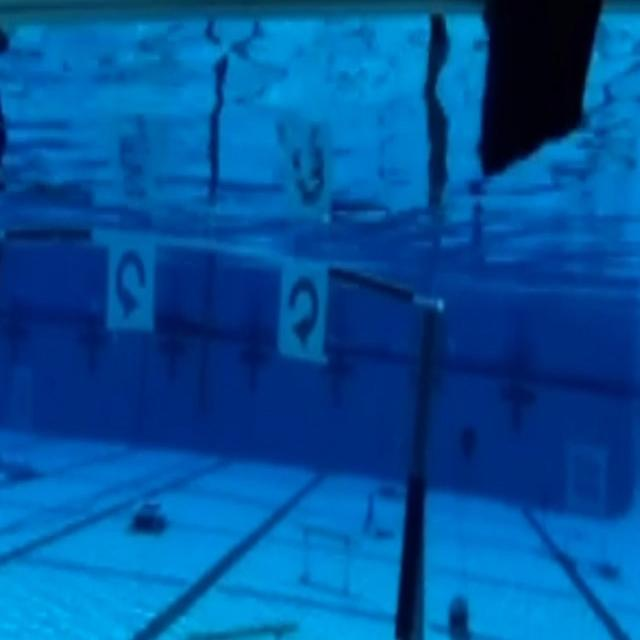Gate: (3, 216, 439, 637)
